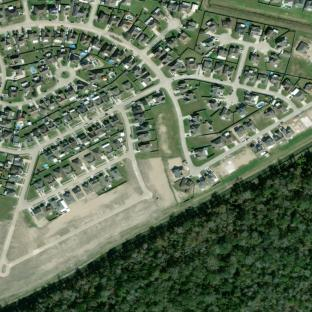Floresta: (3, 151, 312, 312)
